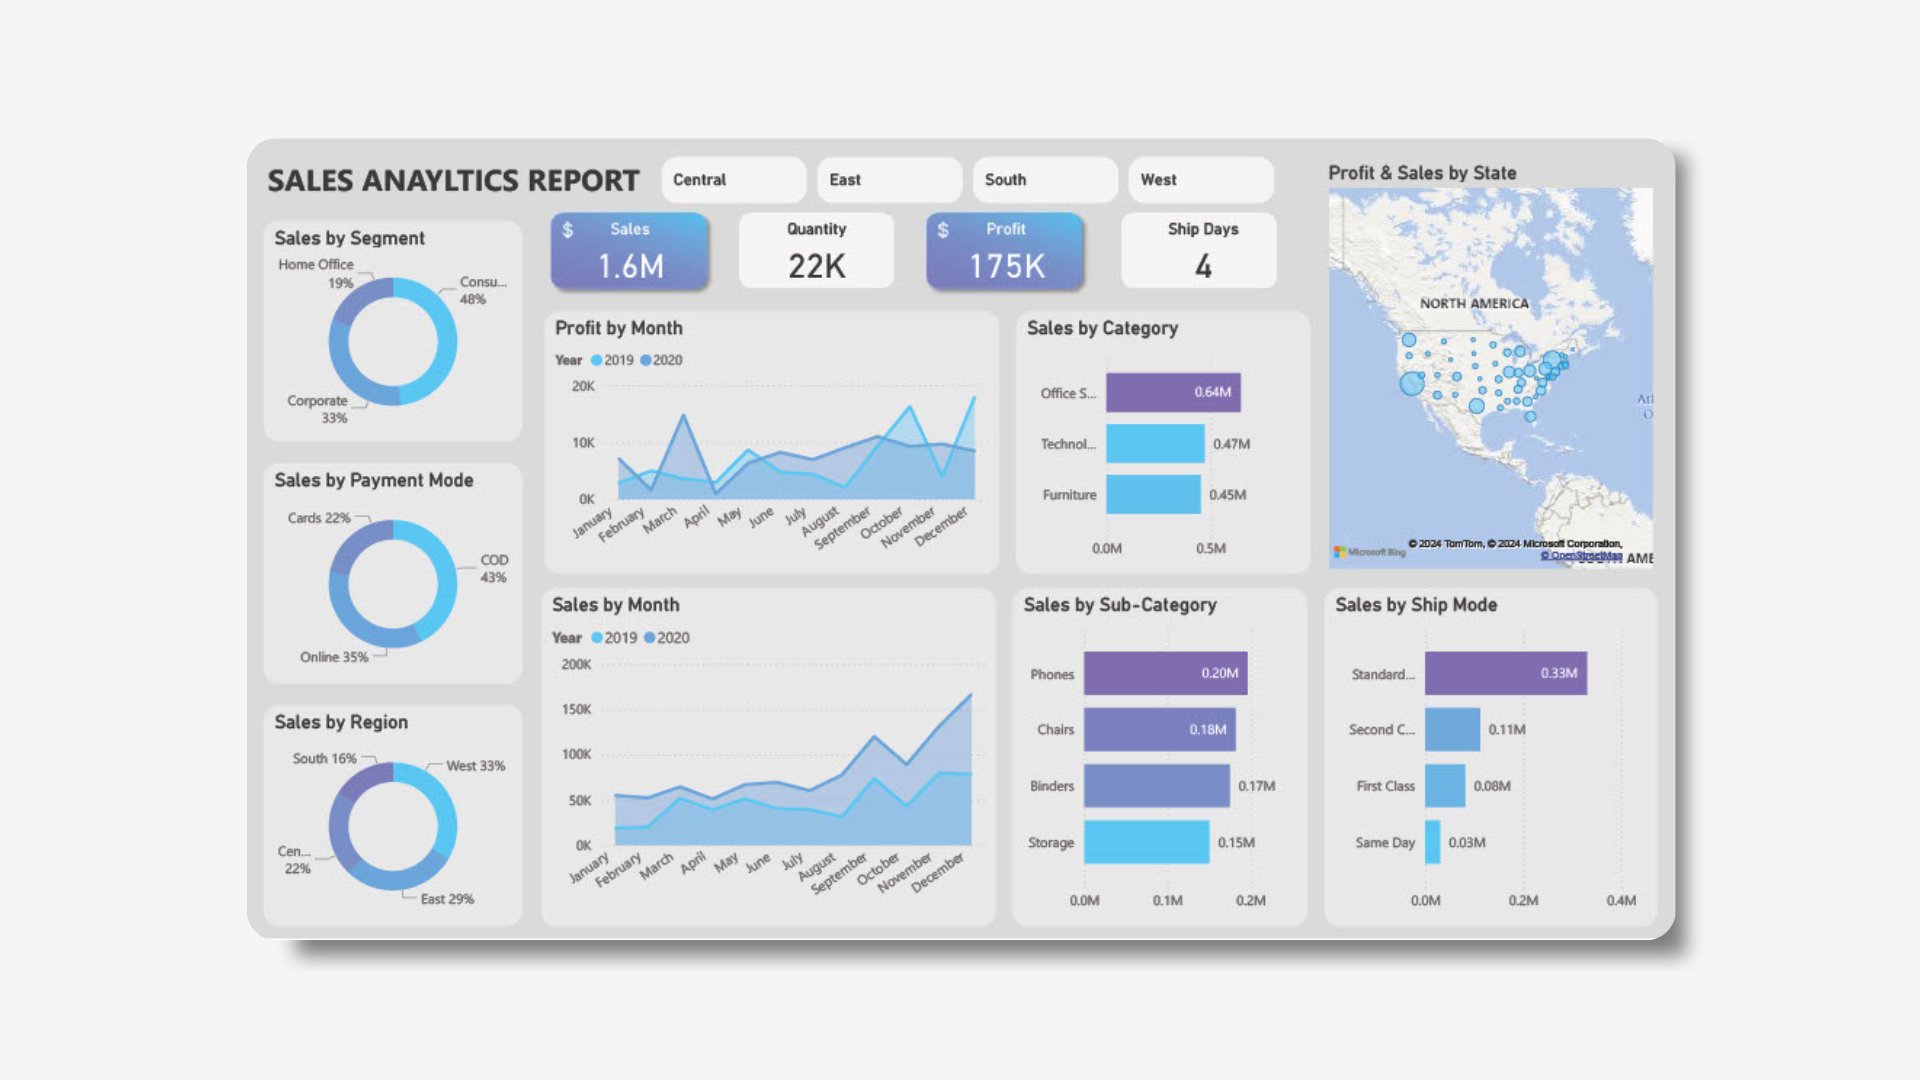

This screenshot's page, from the dashboard's own definition file:
{"tool":"powerbi","page":{"name":"Page 1","canvas":[1280,720],"ordinal":0},"visuals":[{"type":"clusteredBarChart","title":"Sales by Category","fields":{"Category":["SuperStore_Sales_Dataset.Category"],"Y":["Sum(SuperStore_Sales_Dataset.Sales)"]},"box":[688.9,153.7,264.8,237.4],"z":0},{"type":"clusteredBarChart","title":"Sales by Sub-Category","fields":{"Y":["Sum(SuperStore_Sales_Dataset.Sales)"],"Category":["SuperStore_Sales_Dataset.Sub-Category"]},"box":[686.1,402.1,264.8,304.6],"z":1000},{"type":"clusteredBarChart","title":"Sales by Ship Mode","fields":{"Y":["Sum(SuperStore_Sales_Dataset.Sales)"],"Category":["SuperStore_Sales_Dataset.Ship Mode"]},"box":[964.7,402.1,299.1,304.6],"z":2000},{"type":"areaChart","title":"Sales by Month","fields":{"Y":["Sum(SuperStore_Sales_Dataset.Sales)"],"Series":["SuperStore_Sales_Dataset.Order Date.Variation.Date Hierarchy.Year"],"Category":["SuperStore_Sales_Dataset.Order Date.Variation.Date Hierarchy.Month","SuperStore_Sales_Dataset.Order Date.Variation.Date Hierarchy.Day"]},"box":[264.8,402.1,407.5,304.6],"z":3000},{"type":"areaChart","title":"Profit by Month","fields":{"Series":["SuperStore_Sales_Dataset.Order Date.Variation.Date Hierarchy.Year"],"Category":["SuperStore_Sales_Dataset.Order Date.Variation.Date Hierarchy.Month","SuperStore_Sales_Dataset.Order Date.Variation.Date Hierarchy.Day"],"Y":["Sum(SuperStore_Sales_Dataset.Profit)"]},"box":[267.6,153.7,407.5,237.4],"z":4000},{"type":"map","title":"Profit & Sales by State","fields":{"Category":["SuperStore_Sales_Dataset.State"],"Size":["Sum(SuperStore_Sales_Dataset.Sales)"]},"box":[964.7,20.6,299.1,370.5],"z":5000},{"type":"donutChart","title":"Sales by Segment","fields":{"Category":["SuperStore_Sales_Dataset.Segment"],"Y":["Sum(SuperStore_Sales_Dataset.Sales)"]},"box":[17.8,72.7,233.3,200.3],"z":6000},{"type":"donutChart","title":"Sales by Payment Mode","fields":{"Category":["SuperStore_Sales_Dataset.Payment Mode"],"Y":["Sum(SuperStore_Sales_Dataset.Sales)"]},"box":[17.8,289.5,233.3,200.3],"z":7000},{"type":"textbox","box":[17.8,13.7,351.3,49.4],"z":8000},{"type":"card","title":"Sales","fields":{"Values":["Sum(SuperStore_Sales_Dataset.Sales)"]},"box":[284,72.7,123.5,61.7],"z":9000},{"type":"card","title":"Quantity","fields":{"Values":["Sum(SuperStore_Sales_Dataset.Quantity)"]},"box":[448.7,72.7,127.6,61.7],"z":10000},{"type":"card","title":"Profit","fields":{"Values":["Sum(SuperStore_Sales_Dataset.Profit)"]},"box":[617.5,72.7,127.6,61.7],"z":11000},{"type":"card","title":"Ship Days","fields":{"Values":["Avg(SuperStore_Sales_Dataset.AvgDelivery)"]},"box":[787.7,72.7,138.6,61.7],"z":12000},{"type":"donutChart","title":"Sales by Region","fields":{"Category":["SuperStore_Sales_Dataset.Region"],"Y":["Sum(SuperStore_Sales_Dataset.Sales)"]},"box":[17.8,506.3,233.3,200.3],"z":13000},{"type":"advancedSlicerVisual","fields":{"Values":["SuperStore_Sales_Dataset.Region"]},"box":[369.1,11,557.1,52.1],"z":14000}]}

Visuals, with their boxes in screenshot pixels (x1, y1, x2, y2), scaled from the page's 1280x720 canvas onto the 1920x1080 screenshot:
"Sales by Category" clusteredBarChart: BBox(1033, 231, 1431, 587)
"Sales by Sub-Category" clusteredBarChart: BBox(1029, 603, 1426, 1060)
"Sales by Ship Mode" clusteredBarChart: BBox(1447, 603, 1896, 1060)
"Sales by Month" areaChart: BBox(397, 603, 1008, 1060)
"Profit by Month" areaChart: BBox(401, 231, 1013, 587)
"Profit & Sales by State" map: BBox(1447, 31, 1896, 587)
"Sales by Segment" donutChart: BBox(27, 109, 377, 410)
"Sales by Payment Mode" donutChart: BBox(27, 434, 377, 735)
textbox: BBox(27, 21, 554, 95)
"Sales" card: BBox(426, 109, 611, 202)
"Quantity" card: BBox(673, 109, 864, 202)
"Profit" card: BBox(926, 109, 1118, 202)
"Ship Days" card: BBox(1182, 109, 1389, 202)
"Sales by Region" donutChart: BBox(27, 759, 377, 1060)
advancedSlicerVisual - SuperStore_Sales_Dataset.Region: BBox(554, 16, 1389, 95)
